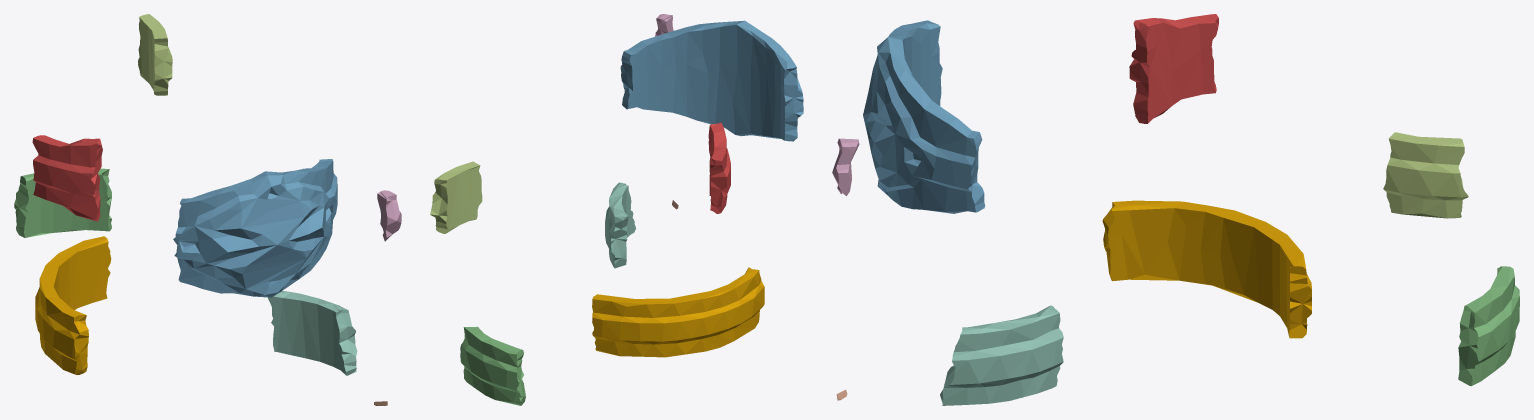
Rendered from fractured_66_8pcs_transformed.glb.
The picture shows the model from 3 angles, left to right: view 1: azimuth 30°, elevation 25°; view 2: azimuth 150°, elevation 25°; view 3: azimuth 270°, elevation 25°; orthographic projection. The views are drawn at different scales.
Parts seen in each view (by area): view 1: piece_2.obj, piece_0.obj, piece_4.obj, piece_1.obj, piece_3.obj, piece_5.obj, piece_6.obj; view 2: piece_2.obj, piece_0.obj, piece_3.obj, piece_5.obj, piece_4.obj, piece_1.obj; view 3: piece_0.obj, piece_2.obj, piece_4.obj, piece_1.obj, piece_5.obj, piece_3.obj, piece_6.obj.
Boxes of the visible parts, x1=… form: piece_2.obj: x1=173, y1=159, x2=337, y2=297; piece_0.obj: x1=35, y1=236, x2=111, y2=374; piece_4.obj: x1=267, y1=291, x2=357, y2=375; piece_1.obj: x1=32, y1=135, x2=102, y2=221; piece_3.obj: x1=14, y1=168, x2=111, y2=237; piece_5.obj: x1=138, y1=14, x2=172, y2=95; piece_6.obj: x1=377, y1=190, x2=401, y2=241; piece_2.obj: x1=620, y1=20, x2=803, y2=141; piece_0.obj: x1=592, y1=267, x2=764, y2=357; piece_3.obj: x1=460, y1=326, x2=525, y2=405; piece_5.obj: x1=430, y1=161, x2=482, y2=233; piece_4.obj: x1=605, y1=182, x2=635, y2=268; piece_1.obj: x1=708, y1=122, x2=730, y2=213; piece_0.obj: x1=1102, y1=200, x2=1311, y2=338; piece_2.obj: x1=863, y1=20, x2=985, y2=213; piece_4.obj: x1=940, y1=305, x2=1063, y2=405; piece_1.obj: x1=1129, y1=14, x2=1218, y2=123; piece_5.obj: x1=1383, y1=132, x2=1468, y2=218; piece_3.obj: x1=1458, y1=266, x2=1519, y2=386; piece_6.obj: x1=832, y1=138, x2=859, y2=195.
Size of the model in its own units: 0.9505 by 0.9691 by 1.99.
